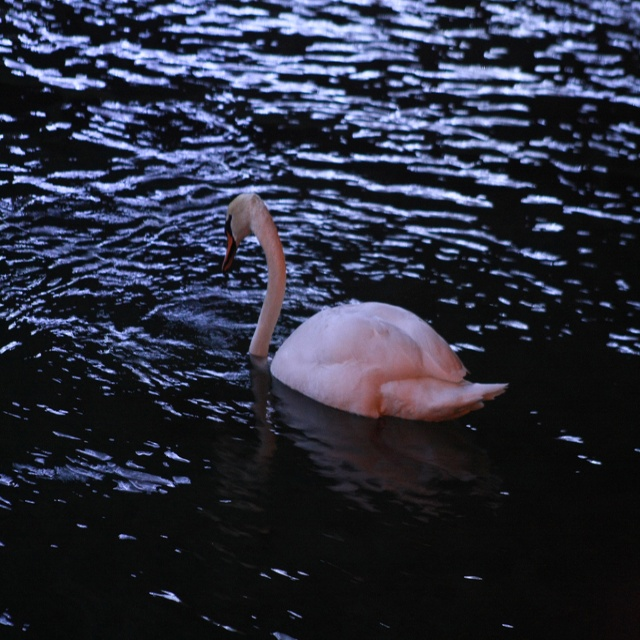Swan: (222, 194, 509, 422)
